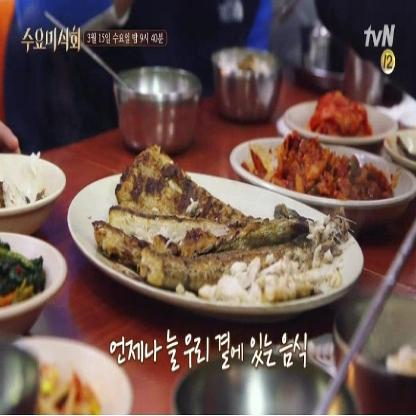Peixe: (106, 161, 338, 280)
